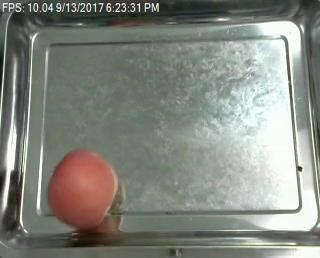apple: (48, 149, 118, 228)
